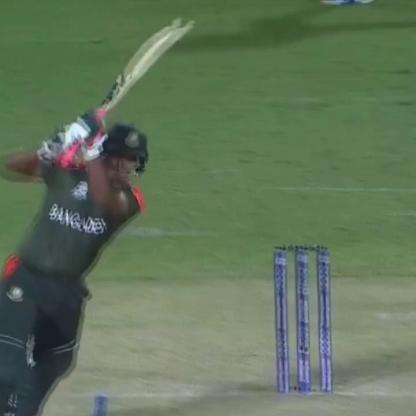bat: (97, 12, 198, 117)
